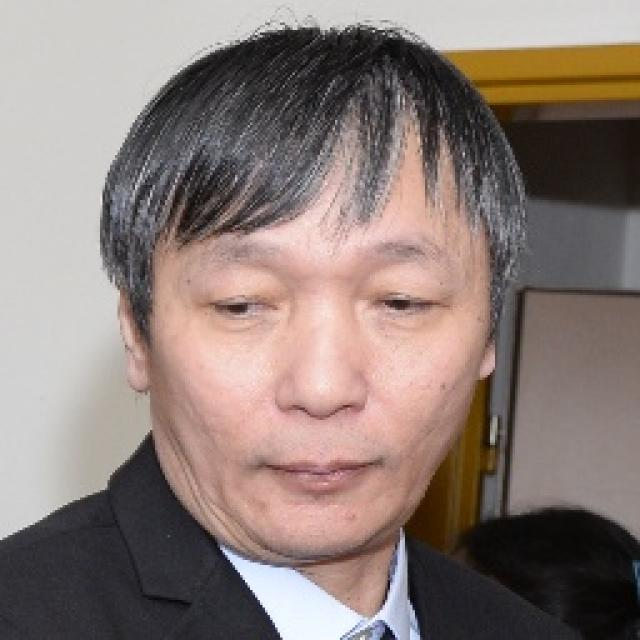earlobe: (126, 357, 156, 395), (474, 347, 500, 382)
eye: (206, 291, 281, 325), (372, 288, 445, 320)
nose: (275, 398, 368, 453)
wholeear: (118, 281, 156, 394)
